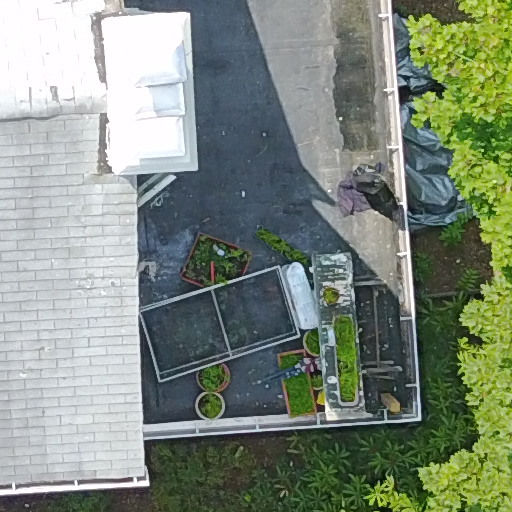flower pt: (180, 229, 257, 294), (190, 386, 230, 423), (189, 357, 235, 388), (299, 322, 336, 360), (303, 360, 334, 396), (319, 284, 343, 309)
porch: (112, 1, 460, 451)
tarp: (384, 14, 478, 244), (336, 158, 396, 224)
